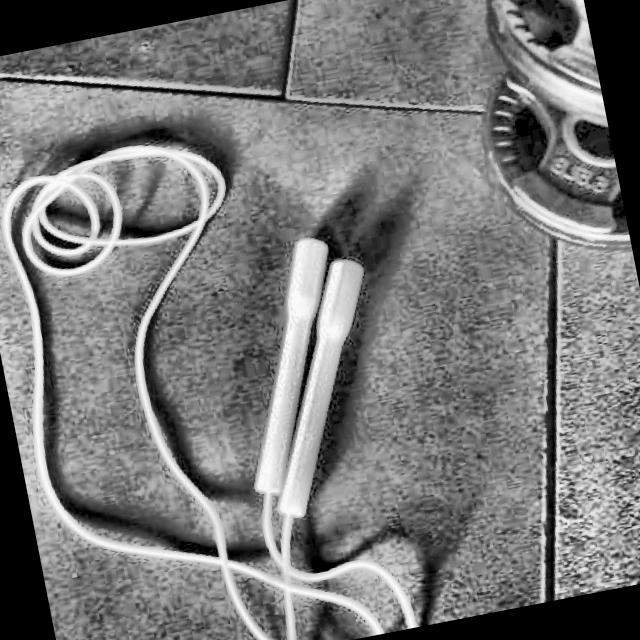Cable: (0, 103, 435, 640)
